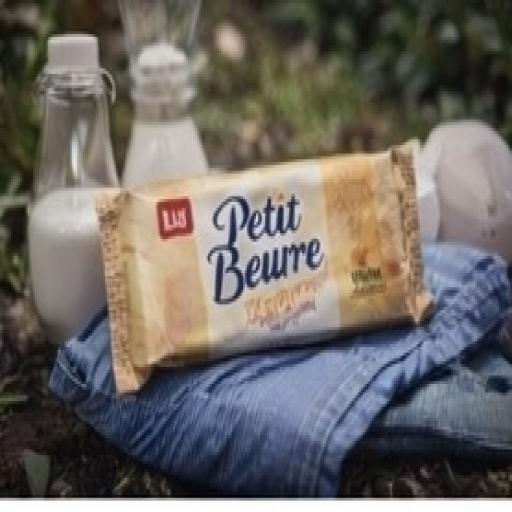petit-beurre: (62, 124, 457, 400)
